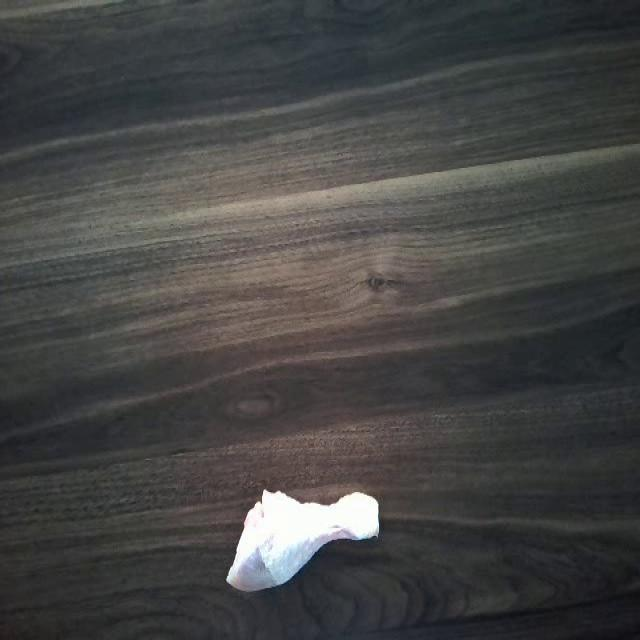leg: (234, 486, 380, 595)
